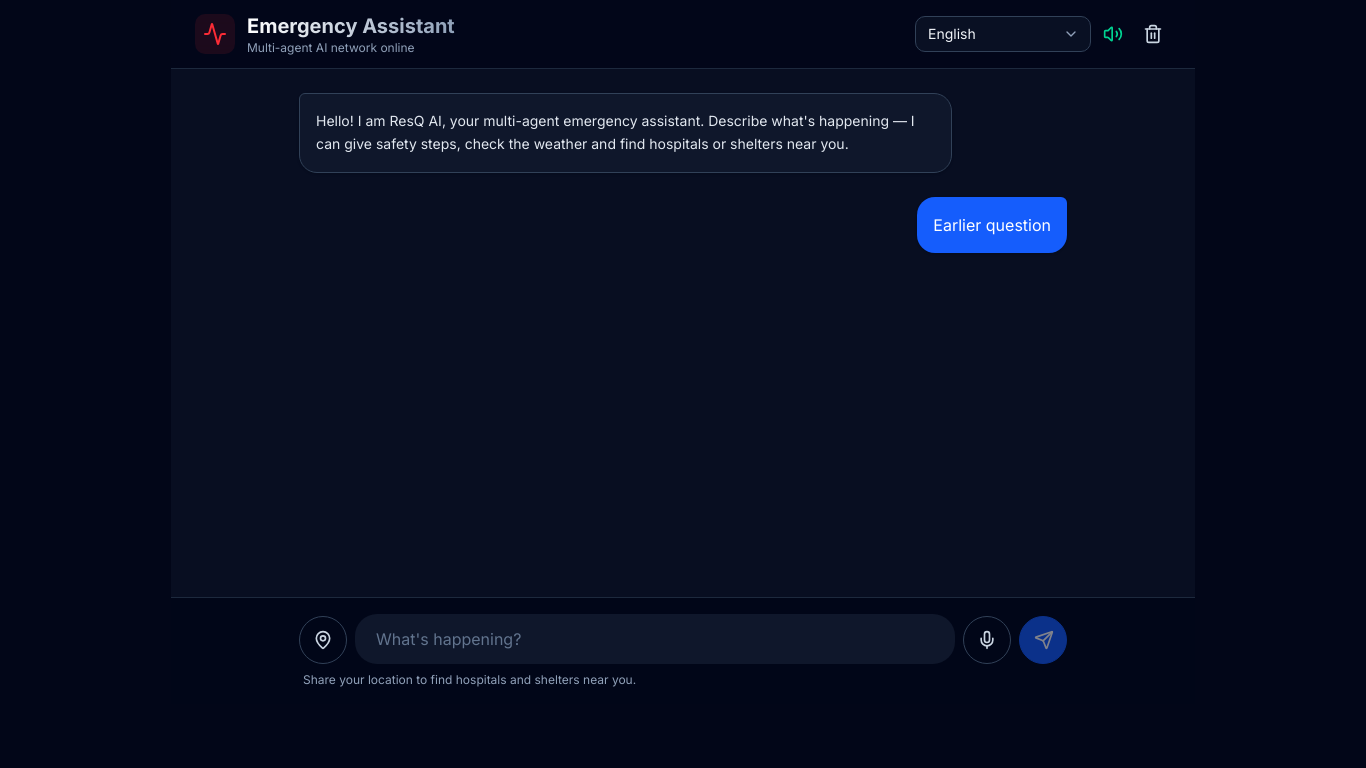
ChatView › uses the selected answer language and restores the transcript
This screenshot has width=1366, height=768.
Later steps or results of the test are not shown.
Check: the text "Earlier question" is shown, box [917,196,1067,252]
Select "हिन्दी (Hindi)" in the dropdown named "Answer language". click: point(1003, 34)
box: [915,16,1091,52]
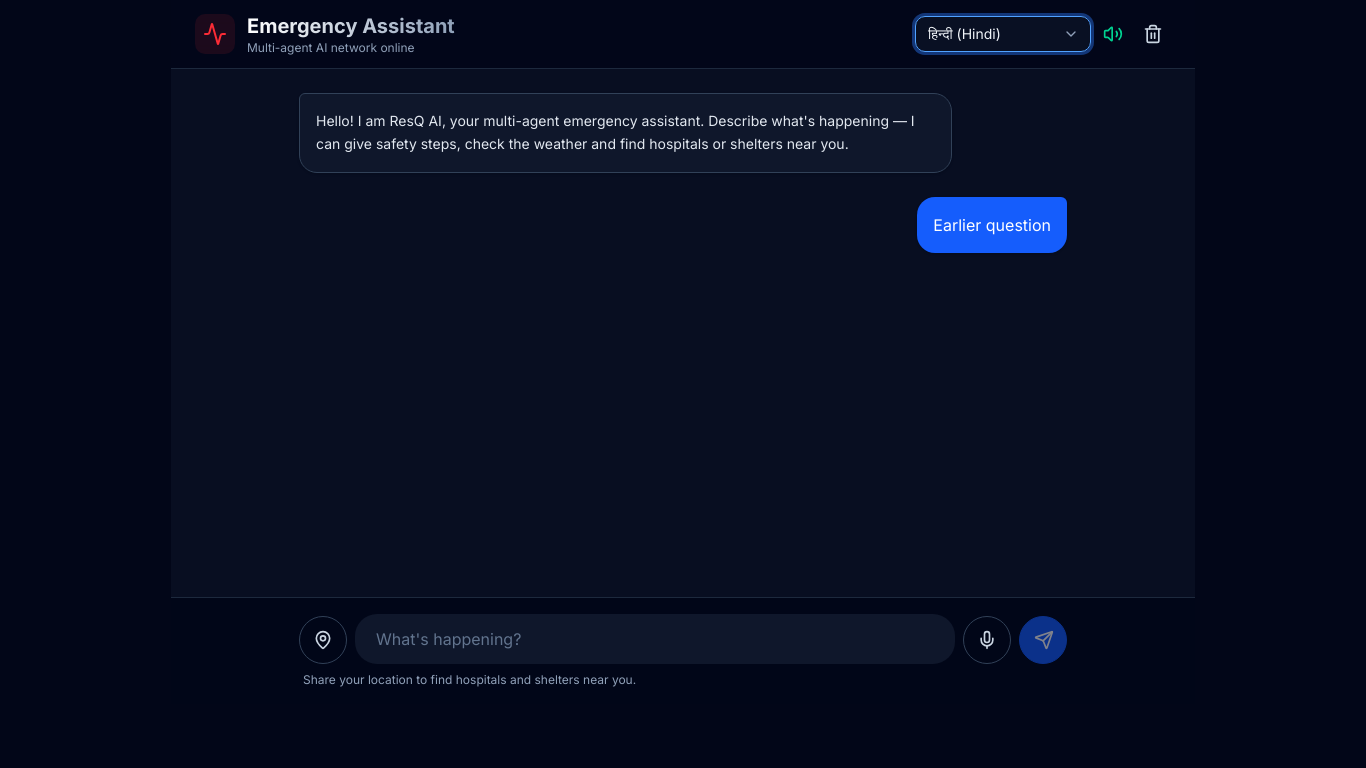
Type "Help" into the text box named "Describe your situation". click: point(655, 639)
box: [355,614,955,664]
Then press Enter
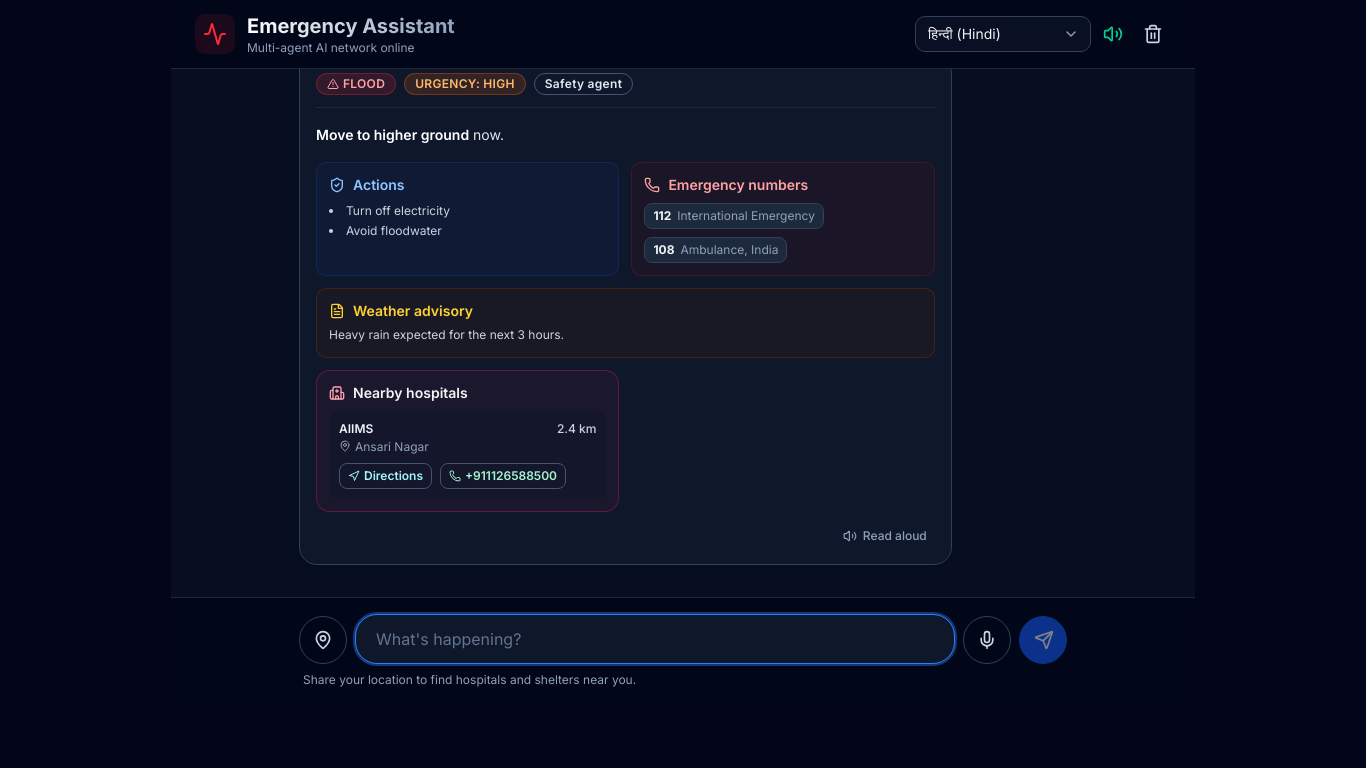
Check: the text "Move to higher ground" is shown, box [316,126,469,142]
